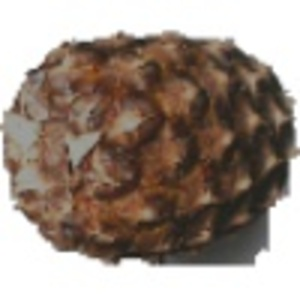abacaxi: (3, 28, 293, 267)
